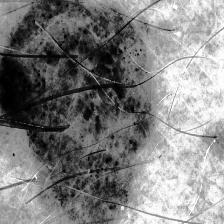Benign Marking or Mole: (4, 3, 147, 224)
